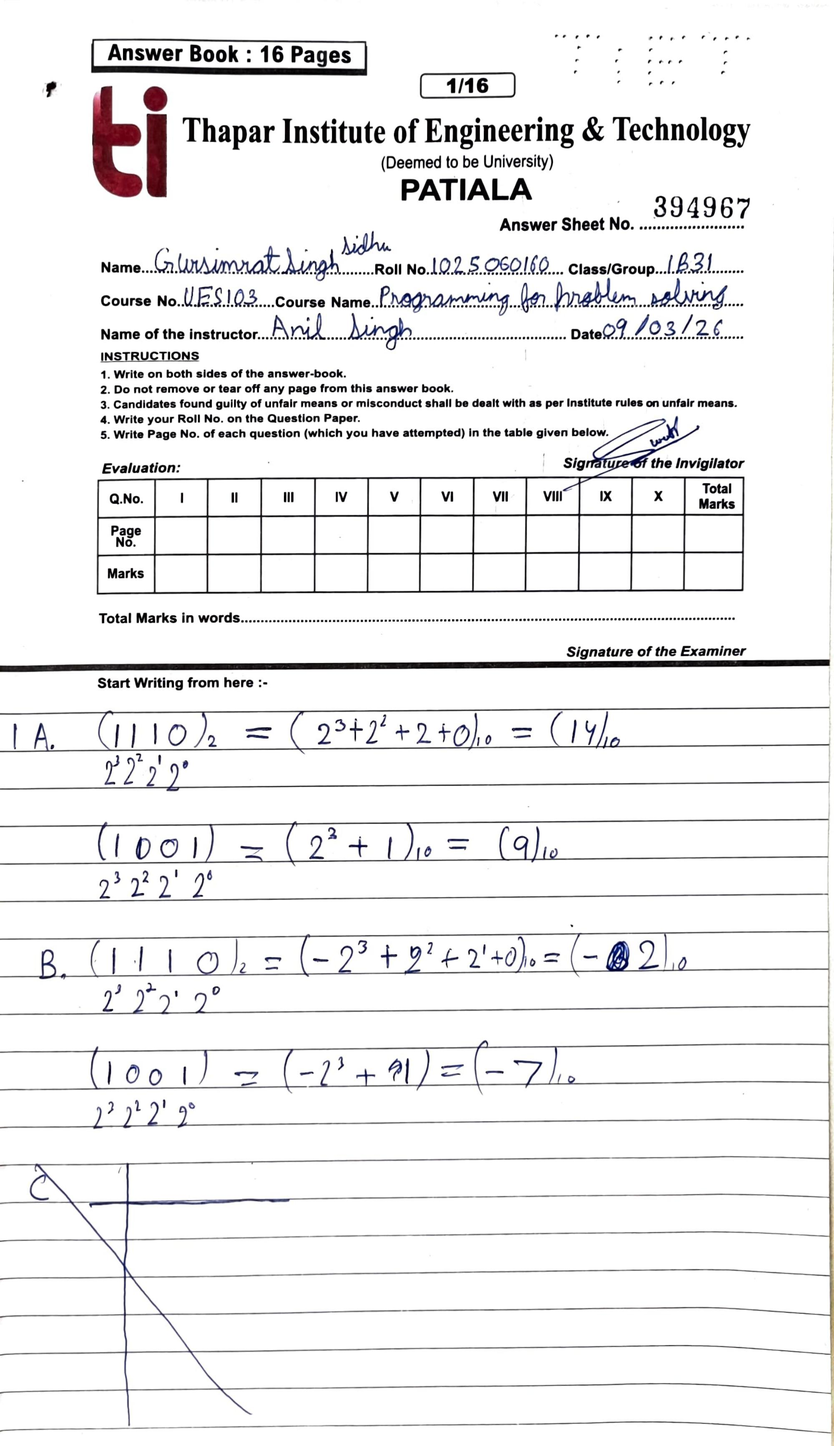cuttings: (26, 1159, 293, 1428), (604, 938, 631, 972)
